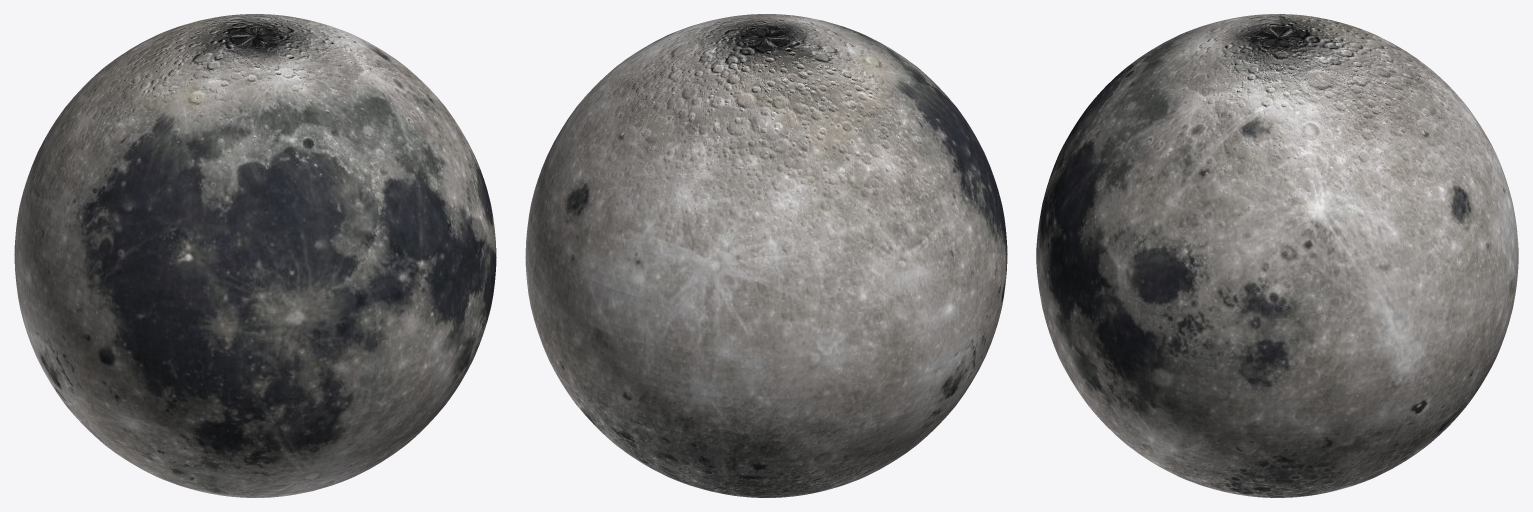
The model's file is moon.obj.
3 views of the same model, side by side, from view 1: azimuth 30°, elevation 25°; view 2: azimuth 150°, elevation 25°; view 3: azimuth 270°, elevation 25° (orthographic).
Parts seen in each view (by area): view 1: Sphere; view 2: Sphere; view 3: Sphere.
Boxes of the visible parts, left/top/right/bottom form: Sphere: left=14, top=14, right=496, bottom=497; Sphere: left=525, top=14, right=1007, bottom=497; Sphere: left=1036, top=14, right=1518, bottom=497.
Bounding box in the file's own units: 1.98 × 1.98 × 1.98.
Materials: 1 (1 with a texture image).
